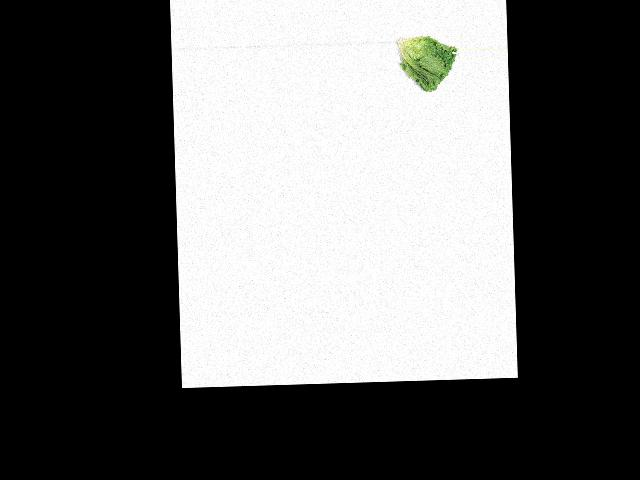lettuce: (394, 30, 458, 98)
